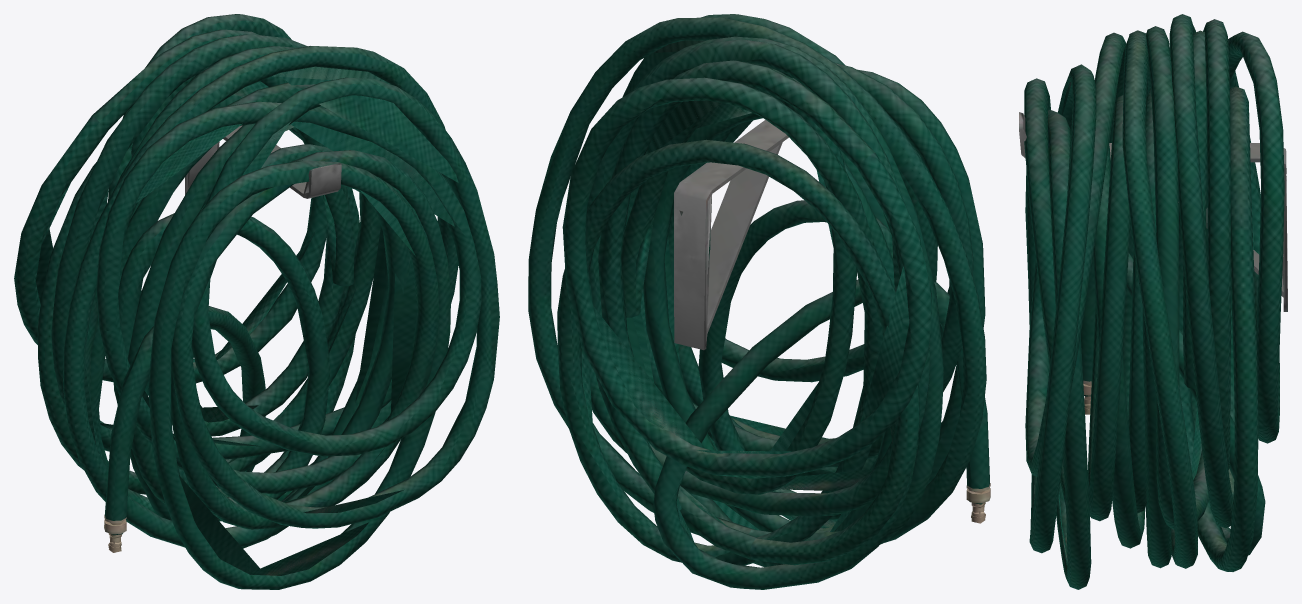
File: garden_hose_wall_mounted_01.glb
3 views of the same model, side by side, from view 1: azimuth 30°, elevation 25°; view 2: azimuth 150°, elevation 25°; view 3: azimuth 270°, elevation 25° (orthographic). The views are drawn at different scales.
Visible parts, largest first — view 1: garden_hose_wall_bracket, garden_hose_wall_bracket_lo; view 2: garden_hose_wall_bracket, garden_hose_wall_bracket_lo; view 3: garden_hose_wall_bracket, garden_hose_wall_bracket_lo.
Part boxes in pixels (left/top/right/bottom): garden_hose_wall_bracket: left=14, top=14, right=499, bottom=589; garden_hose_wall_bracket_lo: left=35, top=66, right=458, bottom=575; garden_hose_wall_bracket: left=528, top=14, right=990, bottom=589; garden_hose_wall_bracket_lo: left=581, top=40, right=990, bottom=541; garden_hose_wall_bracket: left=1019, top=14, right=1287, bottom=589; garden_hose_wall_bracket_lo: left=1019, top=82, right=1287, bottom=565.
Bounding box in the file's own units: 0.4658 × 0.557 × 0.2503.
1 material, 1 textured.
